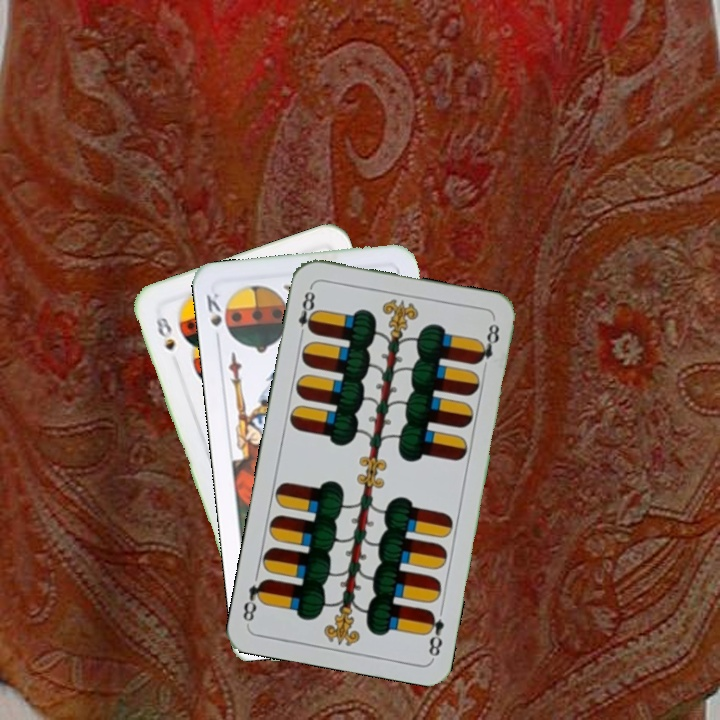E8: (294, 283, 320, 341), (421, 606, 447, 661)
S8: (152, 313, 178, 353)
SK: (202, 287, 224, 346)
